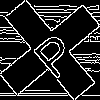P: (25, 25, 79, 81)
